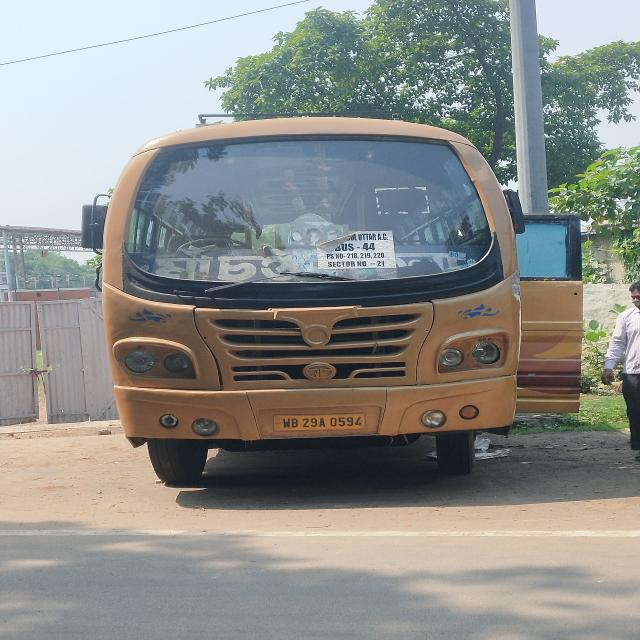Bus: (82, 116, 582, 484)
